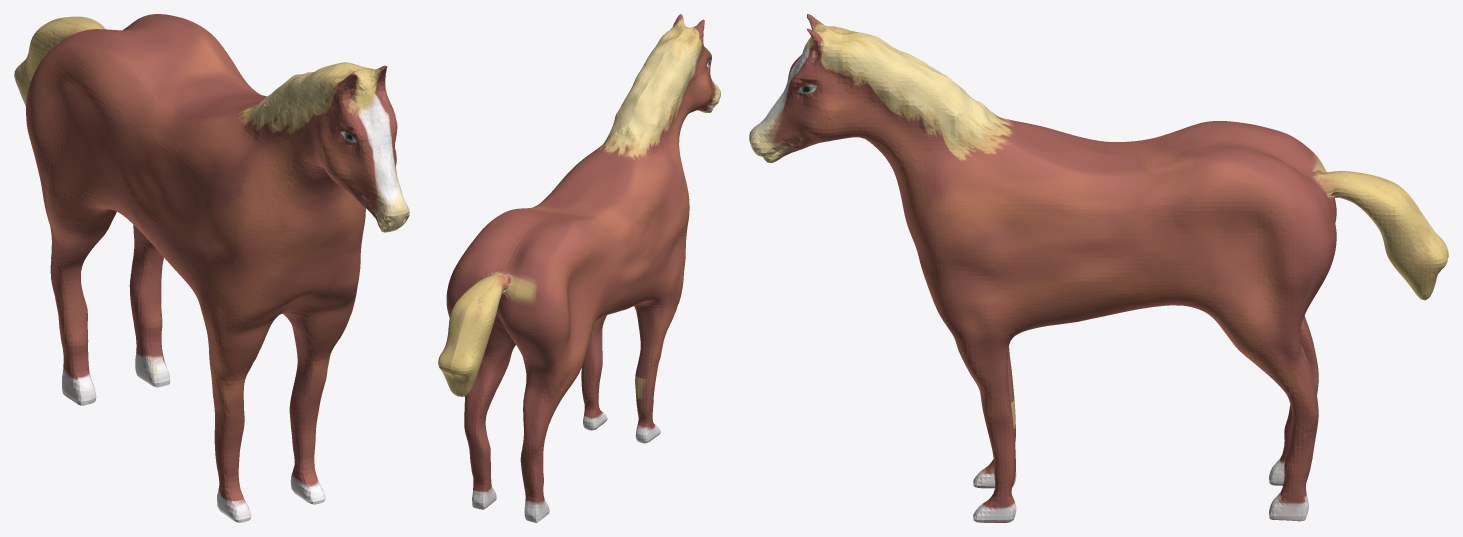
Rendered from At_Modeli_Kaplamali.obj.
The picture shows the model from 3 angles, left to right: view 1: azimuth 30°, elevation 25°; view 2: azimuth 150°, elevation 25°; view 3: azimuth 270°, elevation 25°; orthographic projection. The views are drawn at different scales.
Parts seen in each view (by area): view 1: submesh; view 2: submesh; view 3: submesh.
Boxes of the visible parts, x1=… form: submesh: x1=14, y1=14, x2=409, y2=522; submesh: x1=438, y1=14, x2=720, y2=522; submesh: x1=749, y1=14, x2=1448, y2=522.
Size of the model in its own units: 1.3 by 3.88 by 5.1.
1 material, 1 textured.
